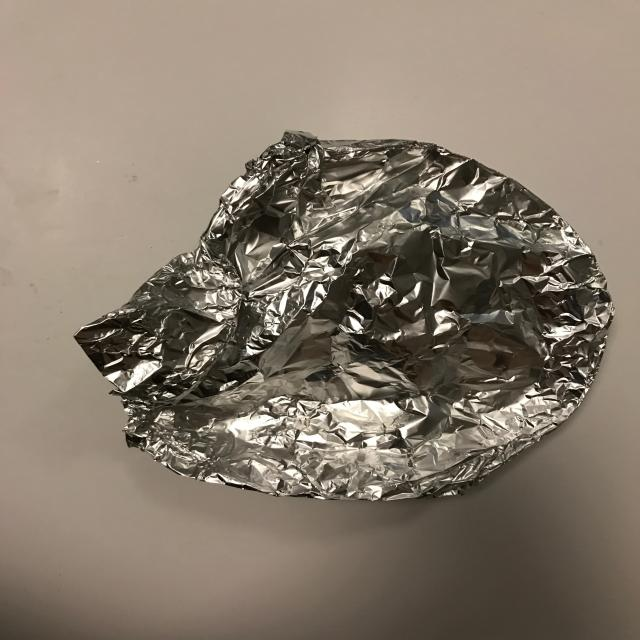metal: (73, 130, 614, 501)
